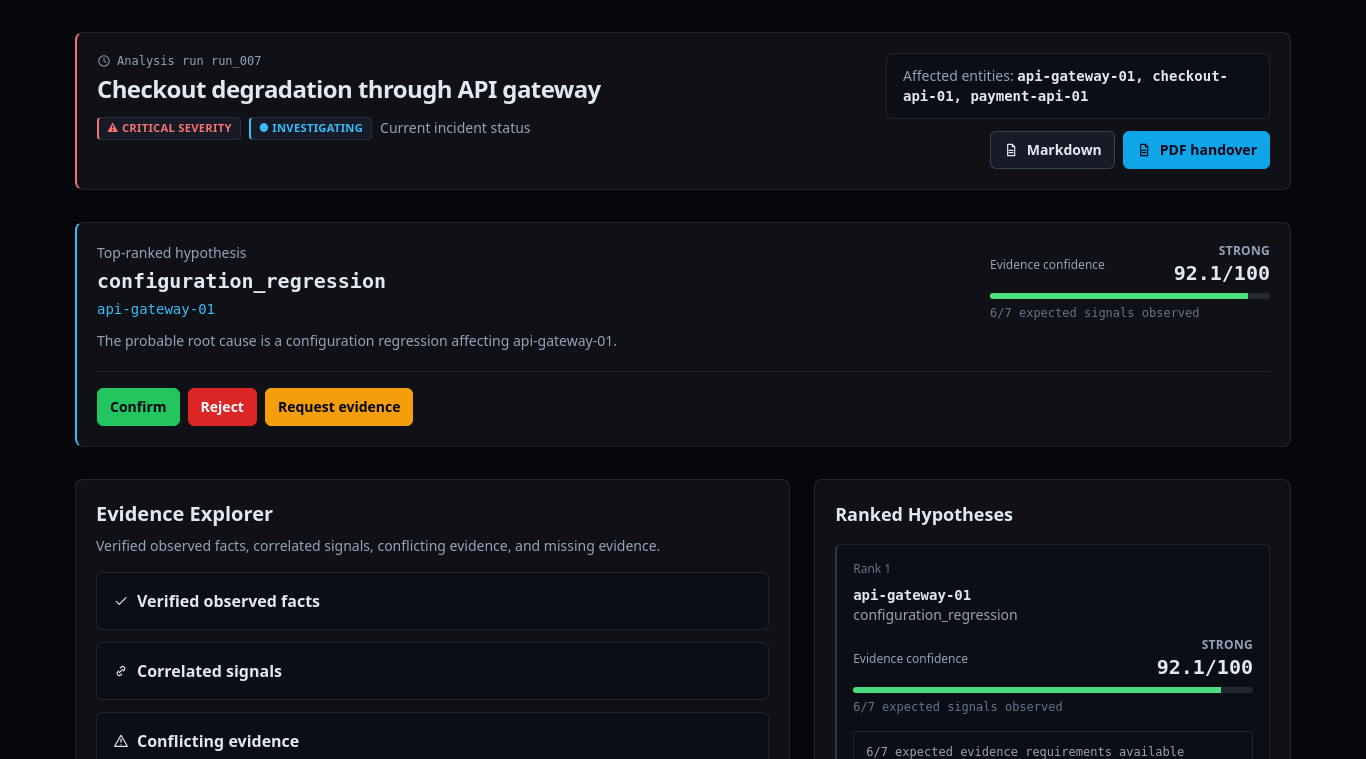
Test case: InvestigationPage › downloads timestamped Markdown and PDF shift-handover reports
Click the button with test id "handover-markdown-btn": [1052, 150] box [990,131,1115,169]
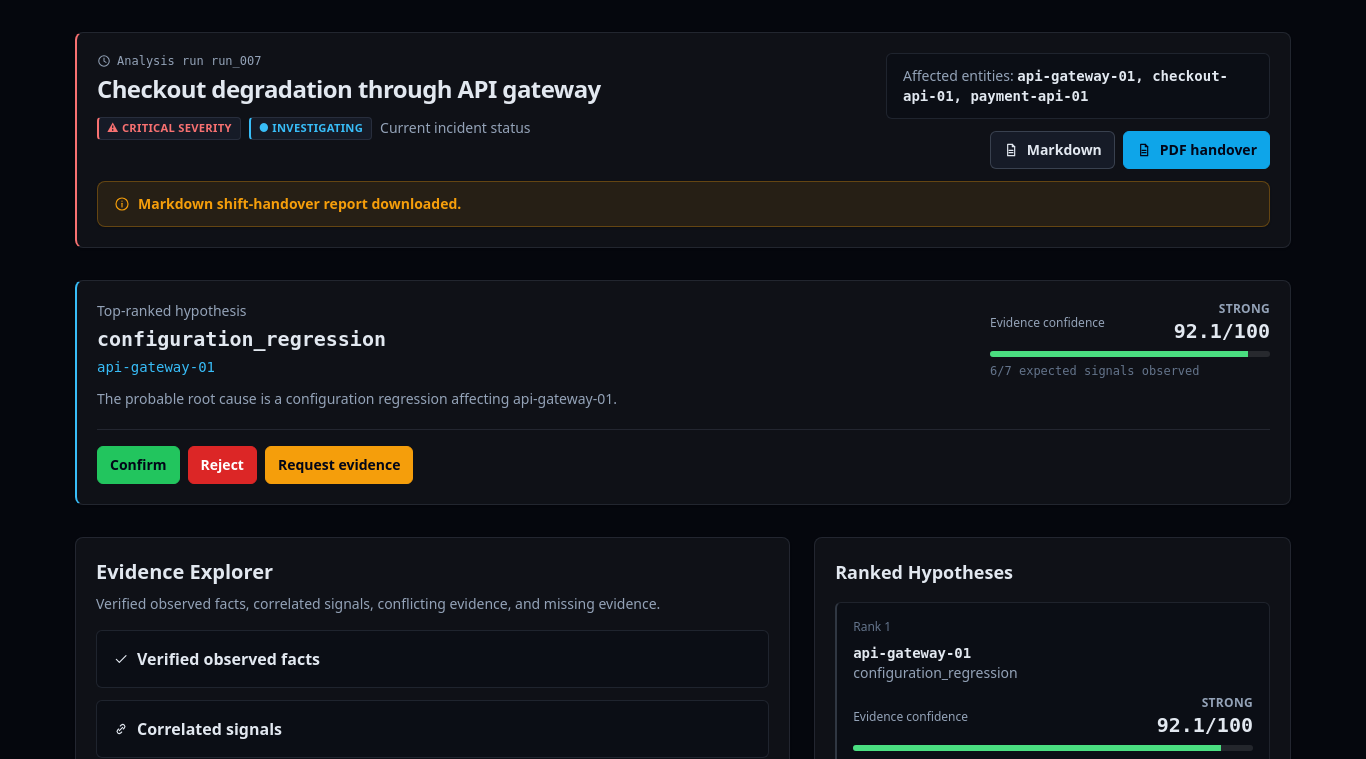
Now the text "Markdown shift-handover report downloaded." is shown, box [97,181,1270,227]
Click the button with test id "handover-pdf-btn": [1196, 150] box [1123,131,1270,169]
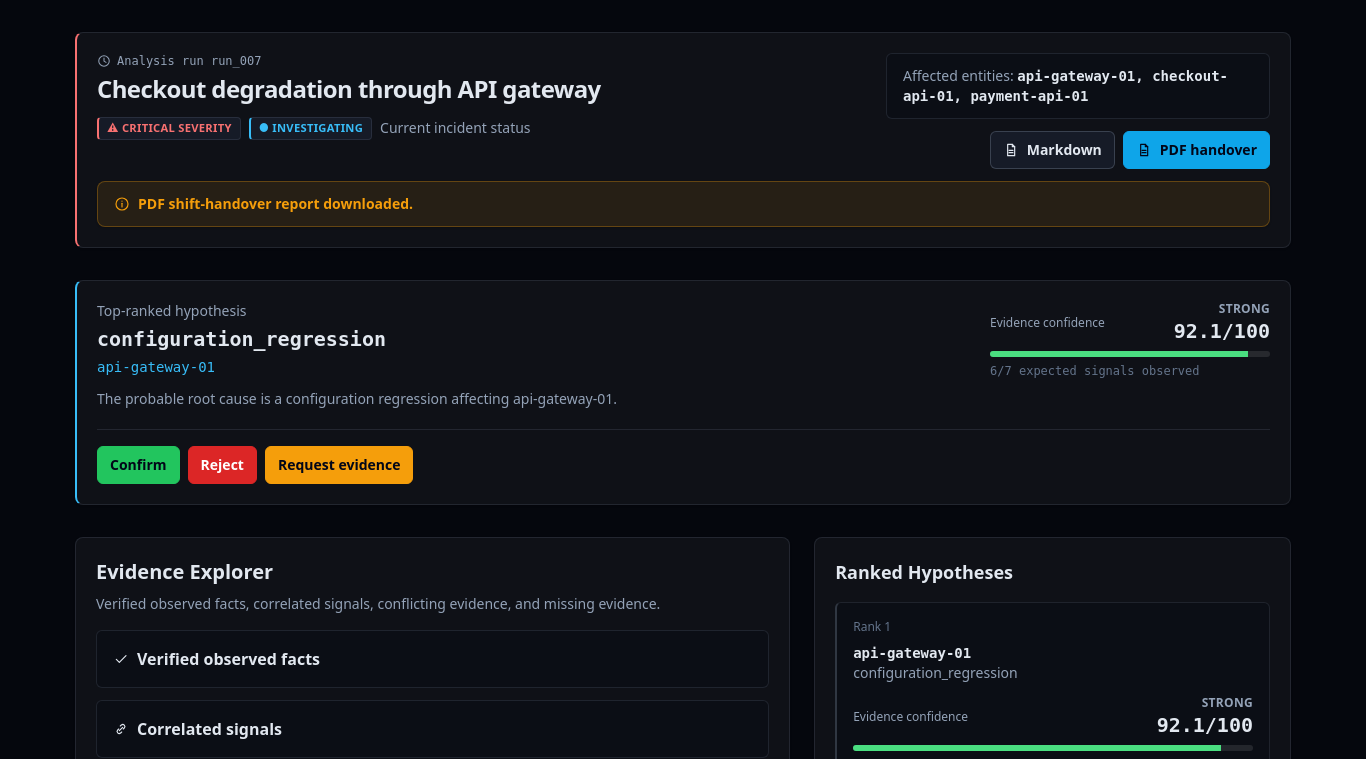
Now the text "PDF shift-handover report downloaded." is shown, box [97,181,1270,227]
